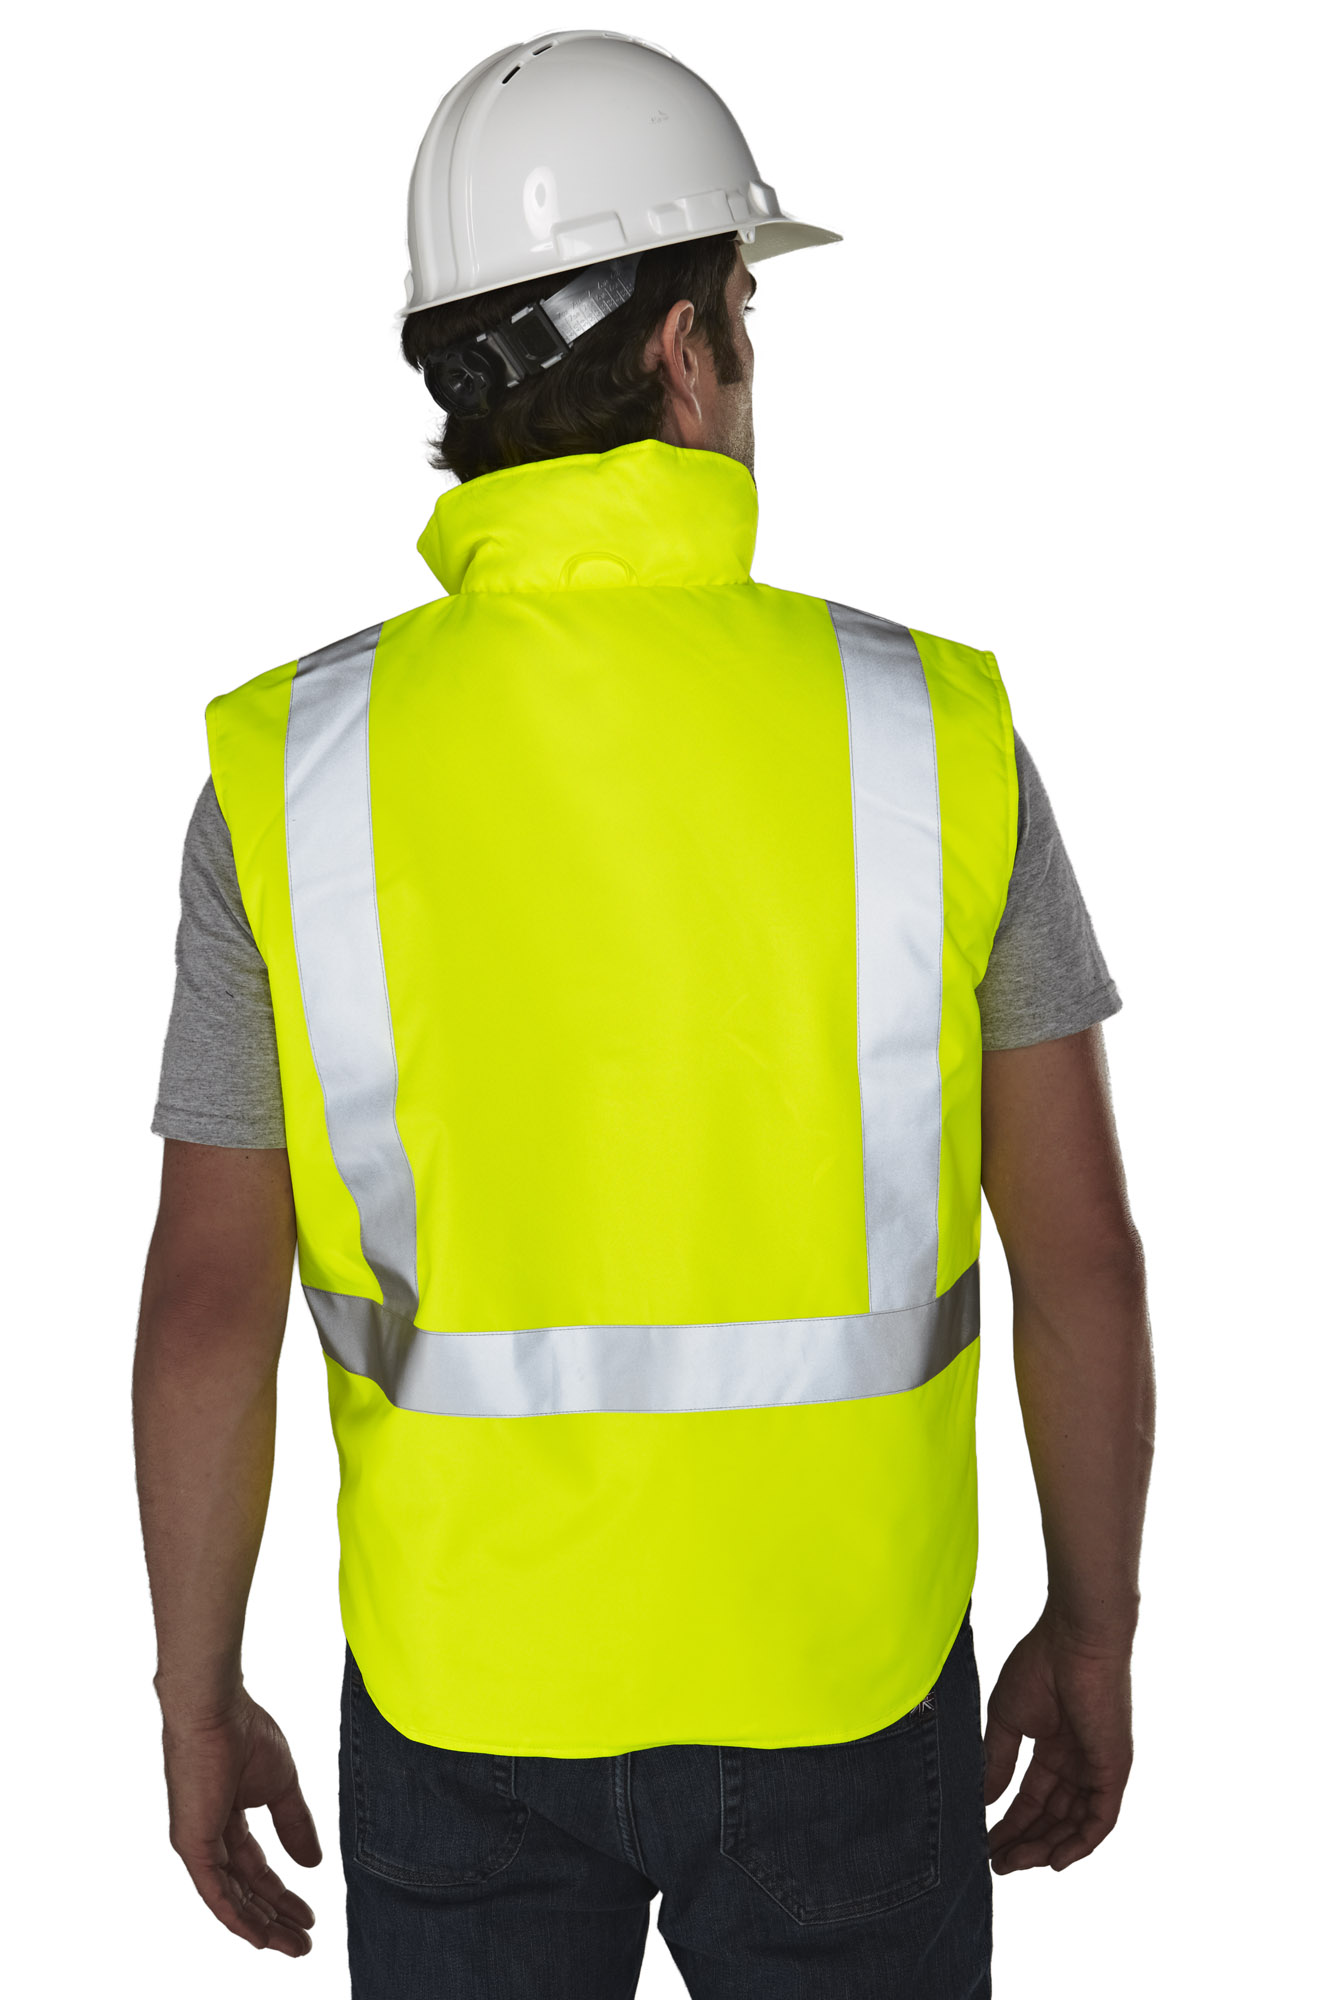Helmet: (382, 21, 869, 556)
Reflective vest: (203, 437, 1036, 1767)
